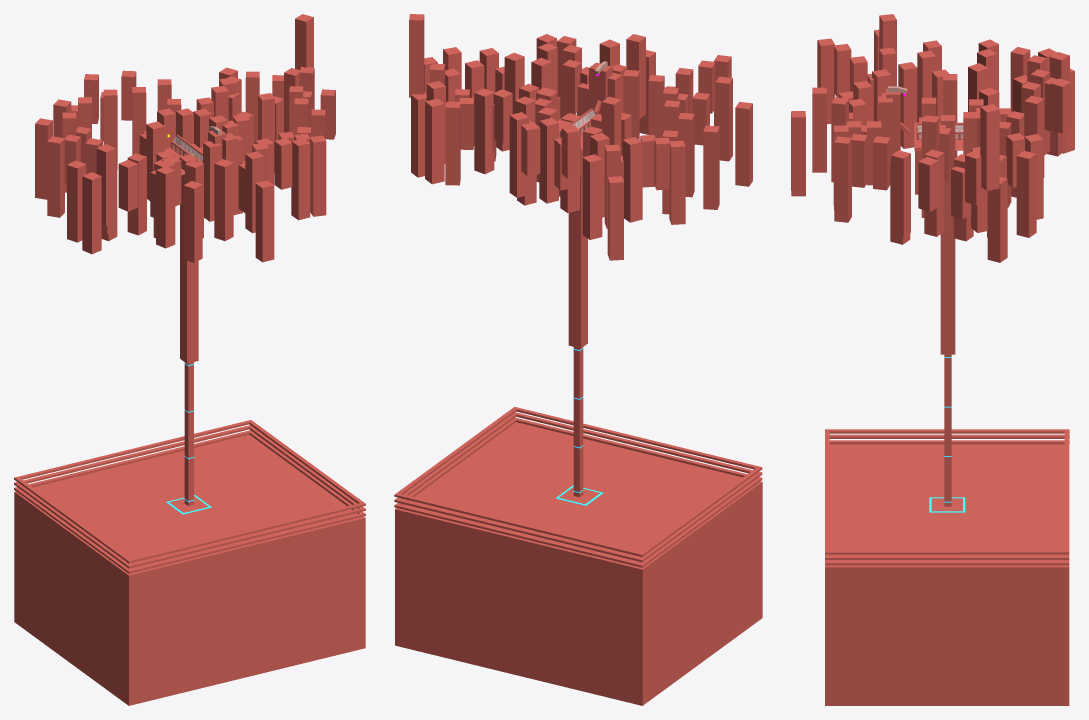
Rendered from testlevel2.glb.
3 views of the same model, side by side, from view 1: azimuth 30°, elevation 25°; view 2: azimuth 150°, elevation 25°; view 3: azimuth 270°, elevation 25° (orthographic). The views are drawn at different scales.
Parts seen in each view (by area): view 1: Cube.113, Cube.114, Cube.056, Cube.053, Cube.073, Cube.054, Cube.074, Cube.055, Cube.041, Cube.127, Cube.091, Cube.052 (+30 smaller); view 2: Cube.113, Cube.114, Cube.103, Cube.079, Cube.127, Cube.104, Cube.092, Cube.053, Cube.041, Cube.042, Cube.071, Cube.100 (+38 smaller); view 3: Cube.113, Cube.114, Cube.079, Cube.082, Cube.067, Cube.080, Cube.091, Cube.069, Cube.056, Cube.057, Cube.126, Cube.127 (+42 smaller).
Boxes of the visible parts, <box> form: Cube.113: <box>14,434,365,705</box>; Cube.114: <box>180,202,198,363</box>; Cube.056: <box>255,180,274,262</box>; Cube.053: <box>82,172,101,254</box>; Cube.073: <box>183,181,202,262</box>; Cube.054: <box>156,166,175,248</box>; Cube.074: <box>214,159,233,240</box>; Cube.055: <box>291,138,310,220</box>; Cube.041: <box>47,136,64,217</box>; Cube.127: <box>184,362,193,505</box>; Cube.091: <box>309,135,326,216</box>; Cube.052: <box>96,144,115,226</box>; Cube.113: <box>395,422,762,705</box>; Cube.114: <box>568,149,587,348</box>; Cube.103: <box>582,154,602,239</box>; Cube.079: <box>425,98,444,184</box>; Cube.127: <box>573,347,583,497</box>; Cube.104: <box>623,137,642,222</box>; Cube.092: <box>474,88,494,174</box>; Cube.053: <box>735,101,752,186</box>; Cube.041: <box>669,140,685,224</box>; Cube.042: <box>607,176,623,260</box>; Cube.071: <box>703,125,719,209</box>; Cube.100: <box>539,118,558,203</box>; Cube.113: <box>825,444,1069,705</box>; Cube.114: <box>940,200,955,354</box>; Cube.079: <box>1016,150,1036,237</box>; Cube.082: <box>891,150,910,237</box>; Cube.067: <box>980,104,999,190</box>; Cube.080: <box>987,177,1007,262</box>; Cube.091: <box>834,136,851,222</box>; Cube.069: <box>898,62,917,148</box>; Cube.056: <box>791,111,805,196</box>; Cube.057: <box>812,87,826,172</box>; Cube.126: <box>825,550,1069,554</box>; Cube.127: <box>944,354,951,506</box>.
Size of the model in its own units: 147 by 288 by 122.
